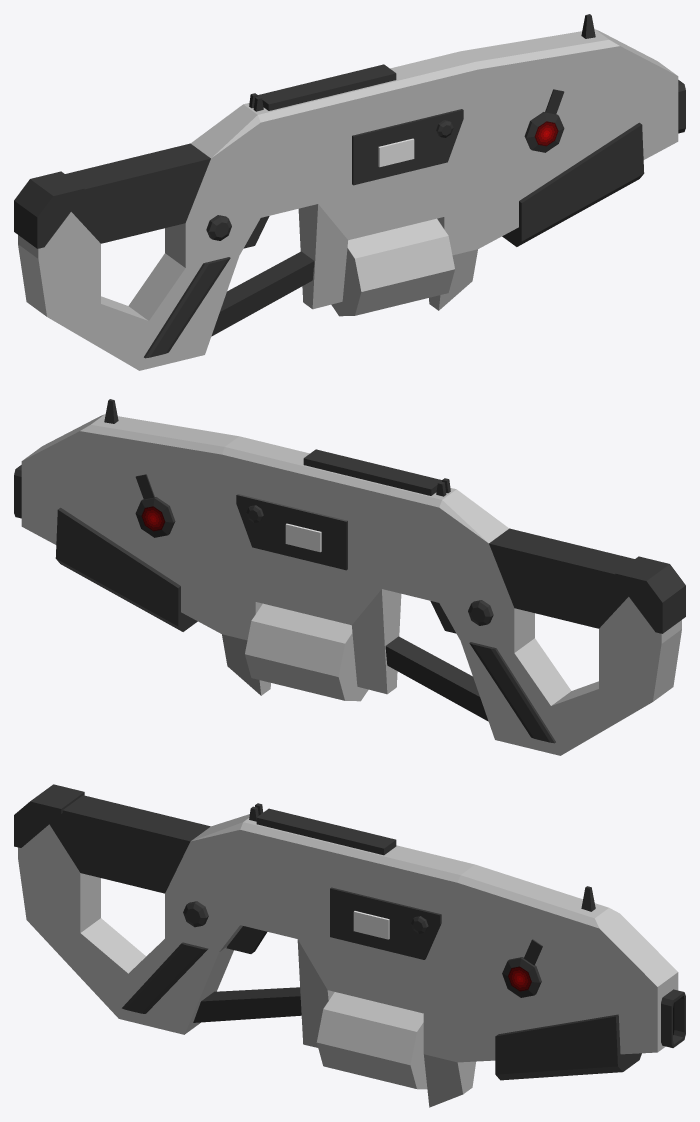
File: Rifle_Pulse_B_V4.FBX
3 views of the same model, one above another, from view 1: azimuth 30°, elevation 25°; view 2: azimuth 150°, elevation 25°; view 3: azimuth 330°, elevation 25° (orthographic).
Parts seen in each view (by area): view 1: Rifle_Pulse_B_V4, Magazine; view 2: Rifle_Pulse_B_V4, Magazine; view 3: Rifle_Pulse_B_V4, Magazine.
Boxes of the visible parts, x1=… form: Rifle_Pulse_B_V4: x1=14, y1=14, x2=685, y2=370; Magazine: x1=331, y1=218, x2=454, y2=316; Rifle_Pulse_B_V4: x1=14, y1=399, x2=685, y2=755; Magazine: x1=245, y1=603, x2=368, y2=701; Rifle_Pulse_B_V4: x1=14, y1=784, x2=685, y2=1107; Magazine: x1=316, y1=992, x2=427, y2=1089.
Size of the model in its own units: 331 by 123 by 39.24.
